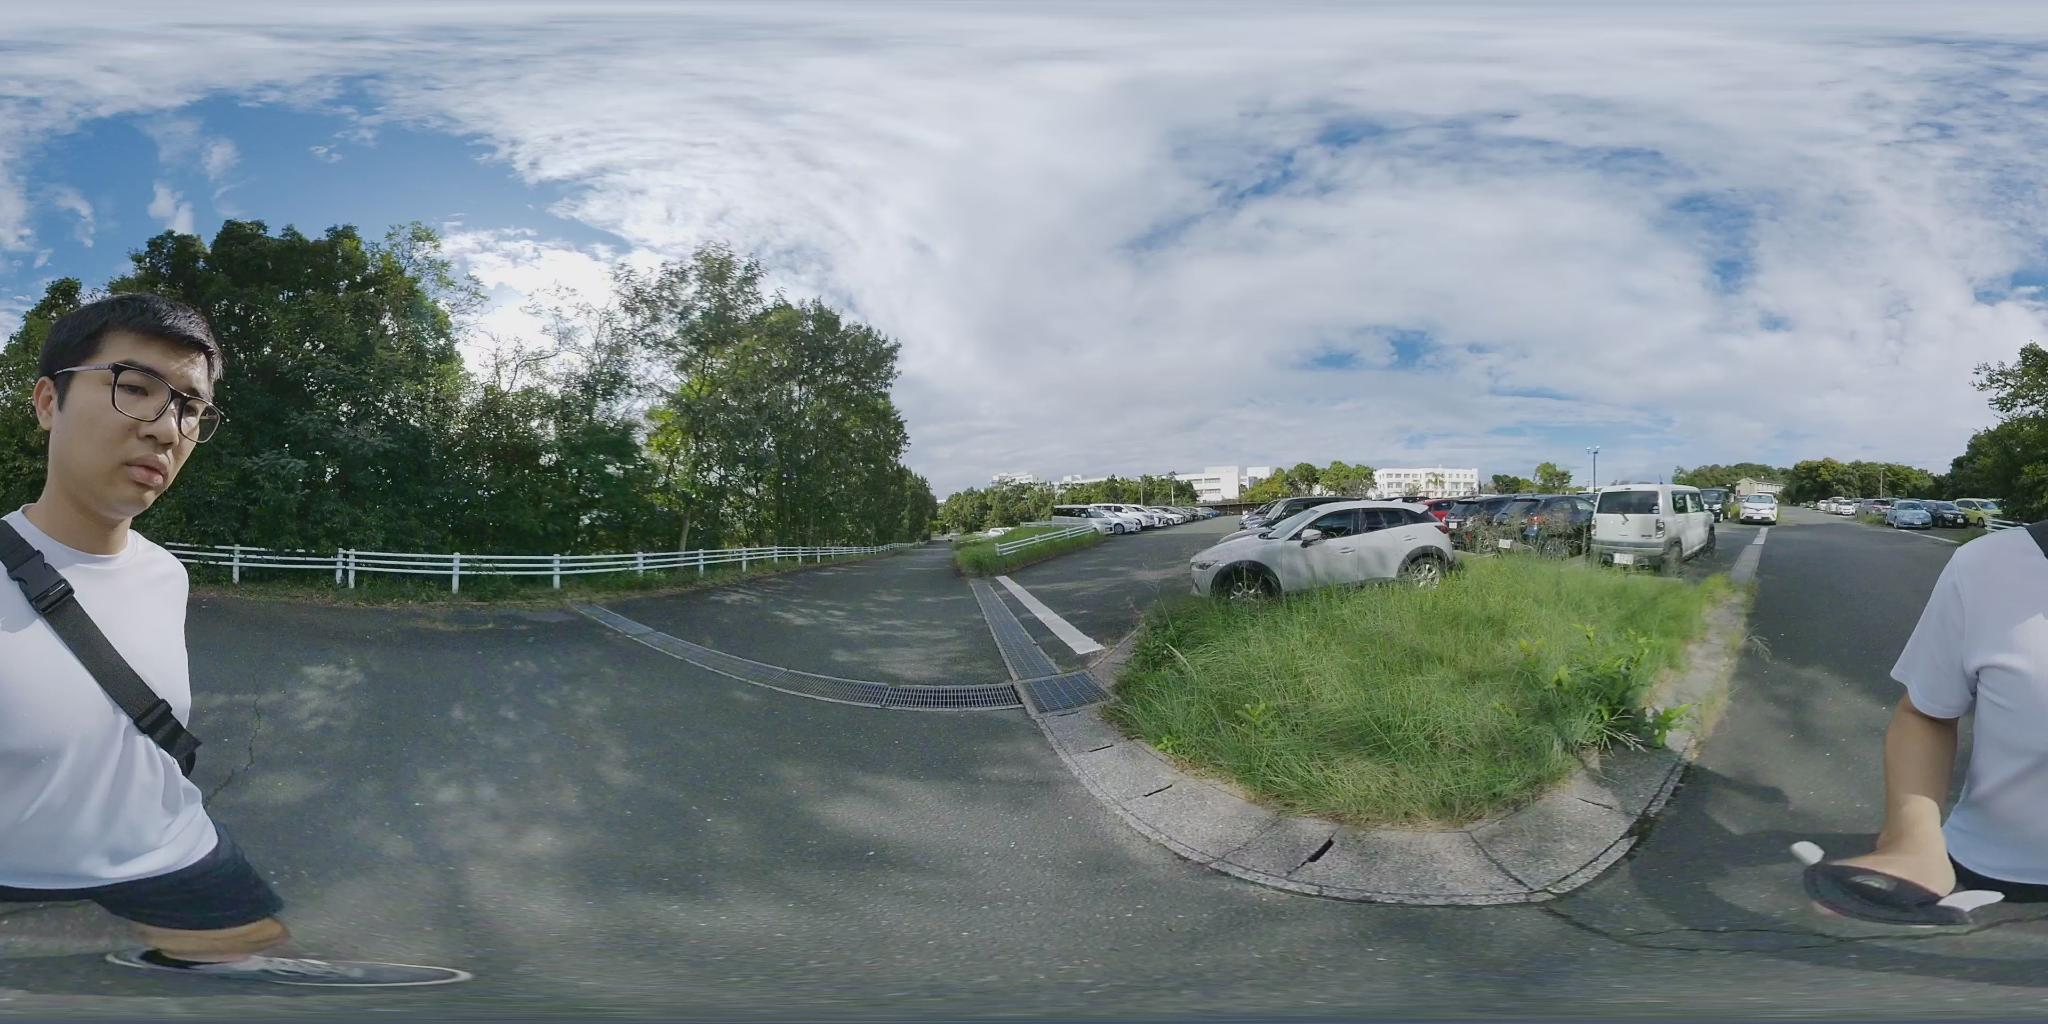car: (1177, 495, 1465, 601), (1432, 491, 1631, 559), (1596, 482, 1716, 569), (1058, 503, 1149, 532), (1883, 499, 1938, 526), (1735, 495, 1782, 524), (1821, 499, 1863, 513)
